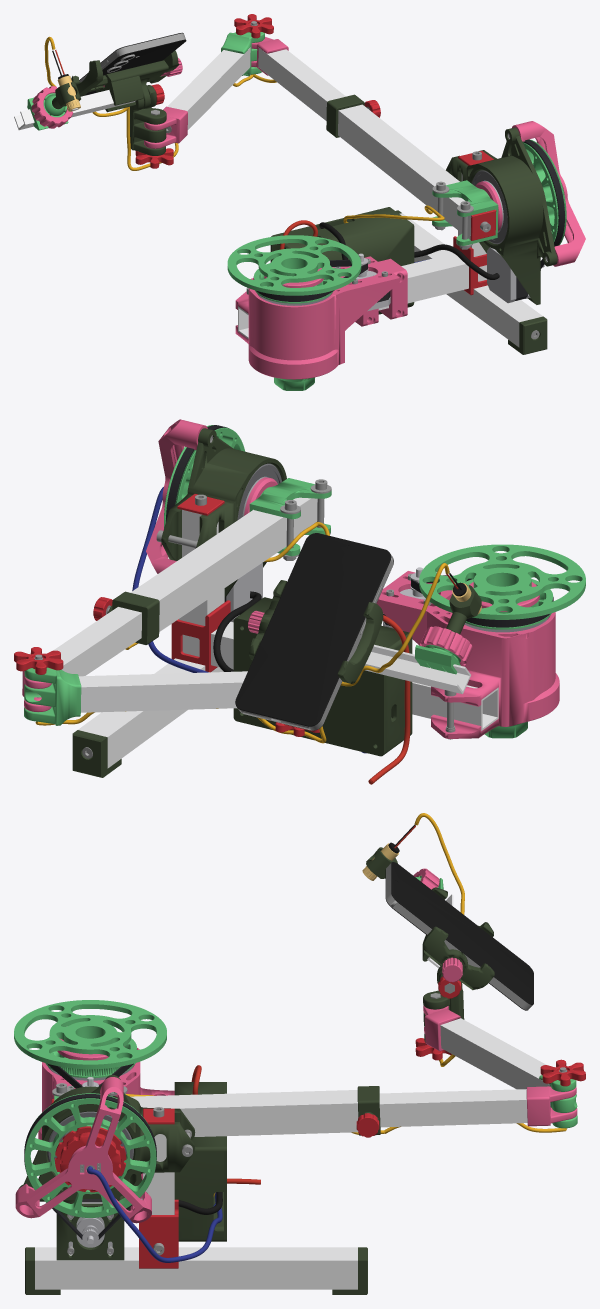
Rendered from Orbiter.glb.
The picture shows the model from 3 angles, top to bottom: view 1: azimuth 30°, elevation 25°; view 2: azimuth 150°, elevation 25°; view 3: azimuth 270°, elevation 25°; orthographic projection. The views are drawn at different scales.
Visible parts, largest first — view 1: BottomBody:1 / BottomHousin(Mirror):1, ElevationDrive:1 / BottomHousin:1, OrbitArm:1, BottomBody:1 / BasePlatformInsert Taper:1, Electronics Box:1 / Electronics Box Shell:1, Frame:1 / CrossRail:1, Frame:1 / MainRail:1, OrbitArm:1 / Gliding Orbit Arm:1 / Swing Arm:1 / Swing Arm T, OrbitArm:1 / Gliding Orbit Arm:1, Camera Head:1 / Phone Clamp (HandScanner):1 / Phone Clamp Lo, ElevationDrive:1 / AngleSensorMount Ribbed:1, Camera Head:1 / Phone Clamp (HandScanner):1 / Galaxy S24 (du (+20 smaller); view 2: Camera Head:1 / Phone Clamp (HandScanner):1 / Galaxy S24 (du, BottomBody:1 / BottomHousin(Mirror):1, OrbitArm:1, BottomBody:1 / BasePlatformInsert Taper:1, OrbitArm:1 / Gliding Orbit Arm:1 / Swing Arm:1 / Swing Arm T, ElevationDrive:1 / BottomHousin:1, Electronics Box:1 / Electronics Box Lid:1, OrbitArm:1 / Gliding Orbit Arm:1, Frame:1 / CrossRail:1, Frame:1 / MainRail:1, Electronics Box:1 / Box Wiring (schematic):1, OrbitArm:1 / Gliding Orbit Arm:1 / Swing Arm:1 / Hinge Femal (+22 smaller); view 3: Frame:1 / CrossRail:1, OrbitArm:1, BottomBody:1 / BasePlatformInsert Taper:1, Camera Head:1 / Phone Clamp (HandScanner):1 / Galaxy S24 (du, ElevationDrive:1 / BottomHousin:1, ElevationDrive:1 / ReplacablePulley:1, ElevationDrive:1 / AngleSensorMount Ribbed:1, OrbitArm:1 / Gliding Orbit Arm:1, Electronics Box:1 / Electronics Box Shell:1, OrbitArm:1 / Gliding Orbit Arm:1 / Swing Arm:1 / Swing Arm T, Electronics Box:1 / Box Wiring (schematic):1, Frame:1 / Rail end caps:1 / MainRail tie cap:1 (+15 smaller).
Part boxes in pixels (left/top/right/bottom): BottomBody:1 / BottomHousin(Mirror):1: left=235, top=256, right=399, bottom=379; ElevationDrive:1 / BottomHousin:1: left=446, top=127, right=557, bottom=304; OrbitArm:1: left=338, top=104, right=471, bottom=239; BottomBody:1 / BasePlatformInsert Taper:1: left=227, top=235, right=361, bottom=295; Electronics Box:1 / Electronics Box Shell:1: left=272, top=208, right=414, bottom=314; Frame:1 / CrossRail:1: left=399, top=213, right=542, bottom=347; Frame:1 / MainRail:1: left=238, top=253, right=486, bottom=338; OrbitArm:1 / Gliding Orbit Arm:1 / Swing Arm:1 / Swing Arm T: left=167, top=47, right=250, bottom=129; OrbitArm:1 / Gliding Orbit Arm:1: left=258, top=47, right=345, bottom=120; Camera Head:1 / Phone Clamp (HandScanner):1 / Phone Clamp Lo: left=96, top=50, right=179, bottom=112; ElevationDrive:1 / AngleSensorMount Ribbed:1: left=512, top=121, right=585, bottom=266; Camera Head:1 / Phone Clamp (HandScanner):1 / Galaxy S24 (du: left=79, top=32, right=186, bottom=95; Camera Head:1 / Phone Clamp (HandScanner):1 / Galaxy S24 (du: left=235, top=533, right=393, bottom=730; BottomBody:1 / BottomHousin(Mirror):1: left=376, top=571, right=559, bottom=738; OrbitArm:1: left=130, top=497, right=317, bottom=631; BottomBody:1 / BasePlatformInsert Taper:1: left=419, top=544, right=585, bottom=619; OrbitArm:1 / Gliding Orbit Arm:1 / Swing Arm:1 / Swing Arm T: left=78, top=671, right=247, bottom=712; ElevationDrive:1 / BottomHousin:1: left=161, top=428, right=286, bottom=598; Electronics Box:1 / Electronics Box Lid:1: left=233, top=617, right=385, bottom=756; OrbitArm:1 / Gliding Orbit Arm:1: left=53, top=607, right=141, bottom=676; Frame:1 / CrossRail:1: left=78, top=658, right=223, bottom=768; Frame:1 / MainRail:1: left=182, top=621, right=498, bottom=730; Electronics Box:1 / Box Wiring (schematic):1: left=132, top=487, right=410, bottom=784; OrbitArm:1 / Gliding Orbit Arm:1 / Swing Arm:1 / Hinge Femal: left=24, top=667, right=81, bottom=725; Frame:1 / CrossRail:1: left=35, top=1247, right=357, bottom=1289; OrbitArm:1: left=130, top=1090, right=358, bottom=1136; BottomBody:1 / BasePlatformInsert Taper:1: left=14, top=1000, right=166, bottom=1069; Camera Head:1 / Phone Clamp (HandScanner):1 / Galaxy S24 (du: left=385, top=862, right=533, bottom=1010; ElevationDrive:1 / BottomHousin:1: left=18, top=1075, right=195, bottom=1260; ElevationDrive:1 / ReplacablePulley:1: left=24, top=1093, right=156, bottom=1217; ElevationDrive:1 / AngleSensorMount Ribbed:1: left=15, top=1077, right=151, bottom=1223; OrbitArm:1 / Gliding Orbit Arm:1: left=379, top=1089, right=527, bottom=1127; Electronics Box:1 / Electronics Box Shell:1: left=174, top=1082, right=223, bottom=1241; OrbitArm:1 / Gliding Orbit Arm:1 / Swing Arm:1 / Swing Arm T: left=440, top=1018, right=550, bottom=1106; Electronics Box:1 / Box Wiring (schematic):1: left=87, top=1065, right=260, bottom=1262; Frame:1 / Rail end caps:1 / MainRail tie cap:1: left=139, top=1199, right=178, bottom=1268.
Bounding box in the file's own units: 0.409 × 0.2606 × 0.4482.
